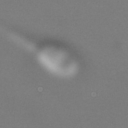normal: (1, 27, 39, 53)
